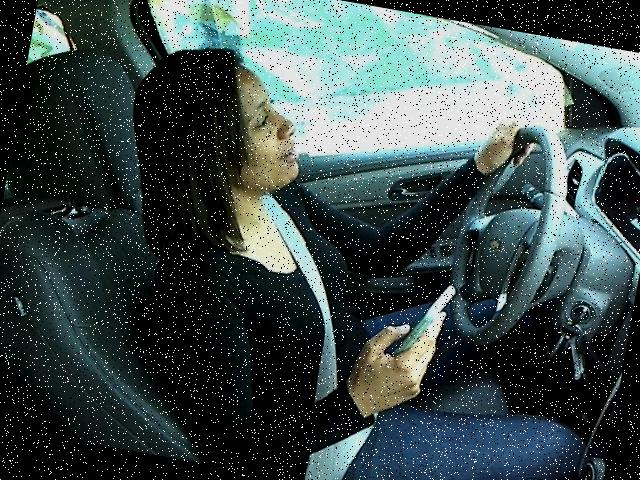c1 - Texting: (72, 25, 587, 479)
